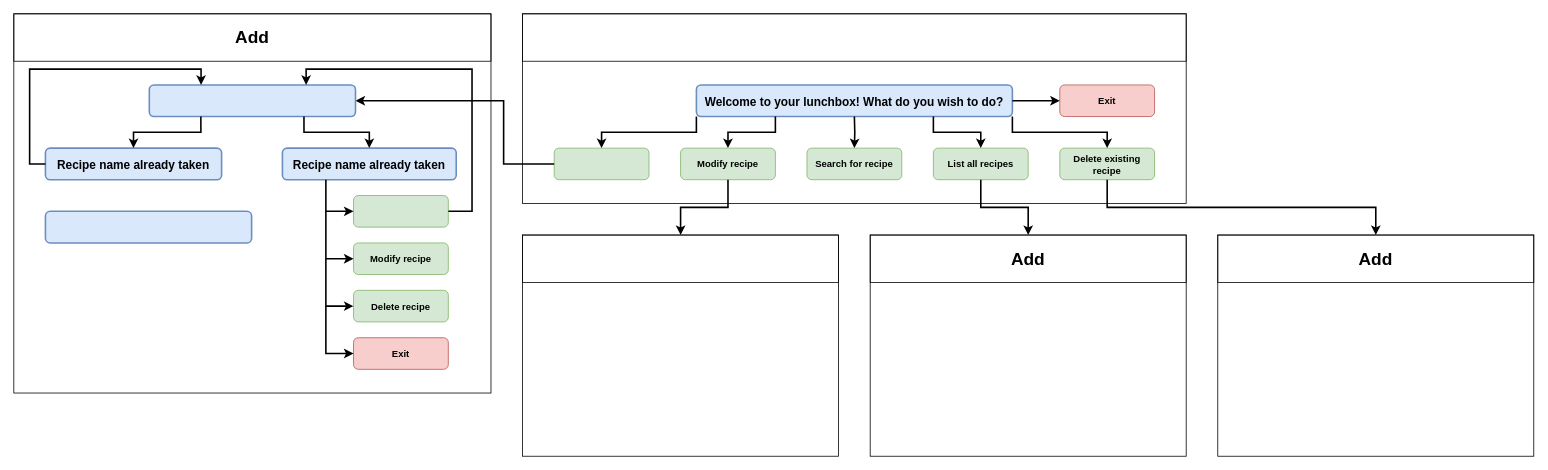
The diagram is 1548 pixels wide and 470 high, and some of its shapes have lost their labels. The shapes that lost their labels are listed below. From the top down, each one's centre as x and y in pixels, then its label:
point 854,37: Main
point 252,100: What is the name of your recipe?
point 601,163: Add new recipe
point 148,226: Where is the .csv for this recipe?
point 400,211: Try different name
point 680,258: Modify
